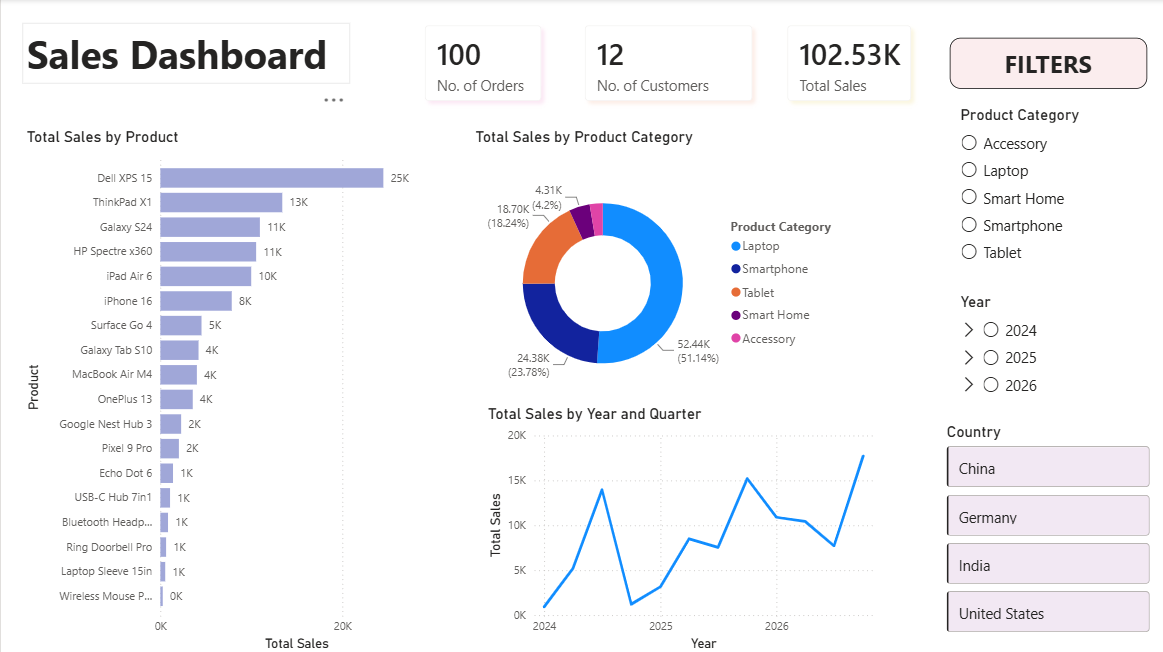

This screenshot's page, from the dashboard's own definition file:
{"tool":"powerbi","page":{"name":"Page 1","canvas":[1280,720],"ordinal":0},"visuals":[{"type":"barChart","fields":{"Category":["orders.product_name"],"Y":["Sum(orders.sales)"]},"box":[23.3,141.3,466.6,579.1],"z":0},{"type":"donutChart","fields":{"Category":["orders.product_category"],"Y":["Sum(orders.sales)"]},"box":[516,141.3,415.8,321.1],"z":1},{"type":"cardVisual","fields":{"Data":["CountNonNull(orders.order_id)"]},"box":[436.4,0,186.6,141.3],"z":2},{"type":"cardVisual","fields":{"Data":["Count(orders.customer_id)"]},"box":[612,0,242.9,141.3],"z":3},{"type":"cardVisual","fields":{"Data":["Sum(orders.sales)"]},"box":[834.3,0,194.9,141.3],"z":4},{"type":"lineChart","fields":{"Category":["orders.order_date.Variation.Date Hierarchy.Year","orders.order_date.Variation.Date Hierarchy.Quarter","orders.order_date.Variation.Date Hierarchy.Month","orders.order_date.Variation.Date Hierarchy.Day"],"Y":["Sum(orders.sales)"]},"box":[529.7,444.6,435,275.8],"z":5},{"type":"advancedSlicerVisual","fields":{"Values":["customers.country"]},"box":[1033.3,465.2,233.3,237.4],"z":6},{"type":"listSlicer","fields":{"Values":["orders.product_category"]},"box":[1048.4,116.6,201.7,185.2],"z":7},{"type":"listSlicer","fields":{"Values":["orders.order_date.Variation.Date Hierarchy.Year","orders.order_date.Variation.Date Hierarchy.Quarter","orders.order_date.Variation.Date Hierarchy.Month","orders.order_date.Variation.Date Hierarchy.Day"]},"box":[1048.4,322.5,201.7,122.1],"z":8},{"type":"textbox","box":[23.3,26.1,359.5,67.2],"z":9},{"type":"textbox","box":[1041.5,42.5,216.8,56.3],"z":10}]}

Visuals, with their boxes in screenshot pixels (x1, y1, x2, y2), scaled from the page's 1280x720 canvas onto the 1163x652 screenshot:
barChart - orders.product_name x Sum(orders.sales): detection(21, 128, 445, 651)
donutChart - orders.product_category x Sum(orders.sales): detection(469, 128, 847, 419)
cardVisual - CountNonNull(orders.order_id): detection(397, 0, 566, 128)
cardVisual - Count(orders.customer_id): detection(556, 0, 777, 128)
cardVisual - Sum(orders.sales): detection(758, 0, 935, 128)
lineChart - orders.order_date.Variation.Date Hierarchy.Year x orders.order_date.Variation.Date Hierarchy.Quarter: detection(481, 403, 877, 651)
advancedSlicerVisual - customers.country: detection(939, 421, 1151, 636)
listSlicer - orders.product_category: detection(953, 106, 1136, 273)
listSlicer - orders.order_date.Variation.Date Hierarchy.Year x orders.order_date.Variation.Date Hierarchy.Quarter: detection(953, 292, 1136, 403)
textbox: detection(21, 24, 348, 84)
textbox: detection(946, 38, 1143, 89)
